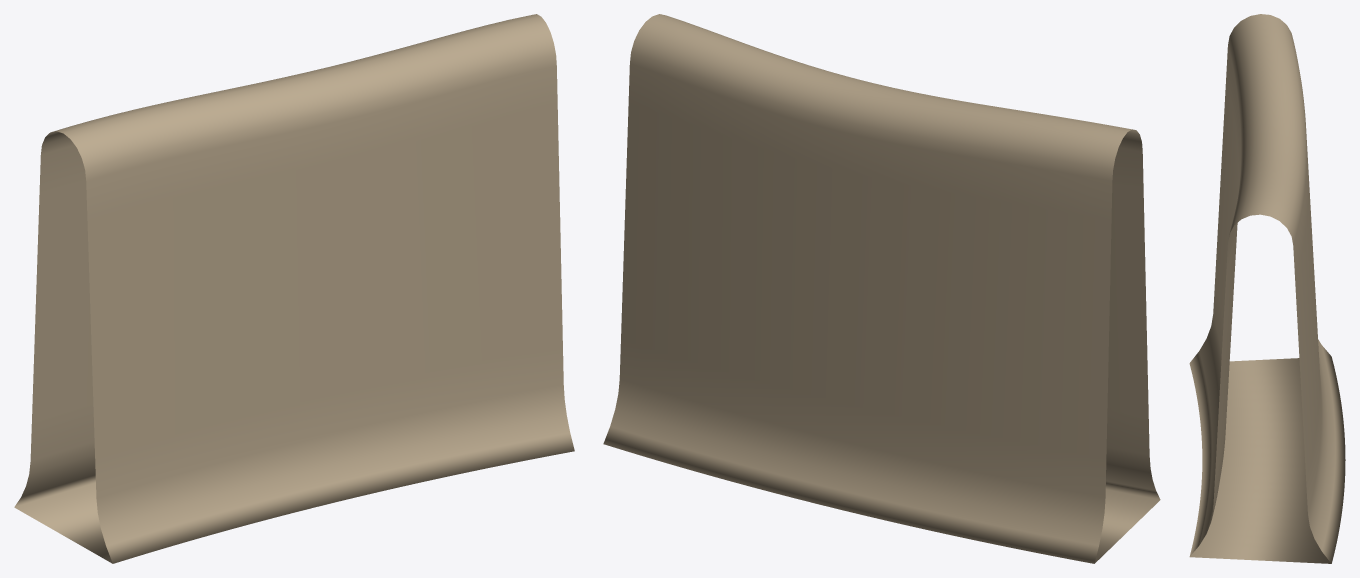
Rendered from KFB_Wall_curved_ring_r5.r4.glb.
3 views of the same model, side by side, from view 1: azimuth 30°, elevation 25°; view 2: azimuth 150°, elevation 25°; view 3: azimuth 270°, elevation 25° (orthographic). The views are drawn at different scales.
Visible parts, largest first — view 1: KFB_Wall_curved_ring_r5; view 2: KFB_Wall_curved_ring_r5; view 3: KFB_Wall_curved_ring_r5.
Boxes of the visible parts, x1,y1,x2,y2 form: KFB_Wall_curved_ring_r5: (14,14,574,563); KFB_Wall_curved_ring_r5: (603,14,1160,563); KFB_Wall_curved_ring_r5: (1189,14,1345,563).
Size of the model in its own units: 4.63 by 3.6 by 1.47.
